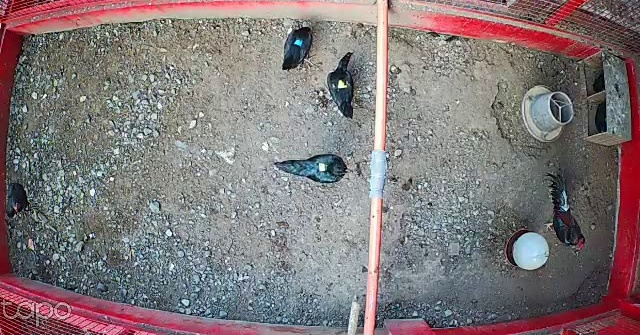Chicken: (325, 48, 364, 120), (272, 151, 349, 186), (281, 27, 318, 76)
Rooster: (542, 170, 589, 253)
Saddle_Color_Blue: (295, 39, 305, 47)
Saddle_Color_Yellow: (335, 80, 350, 91)
